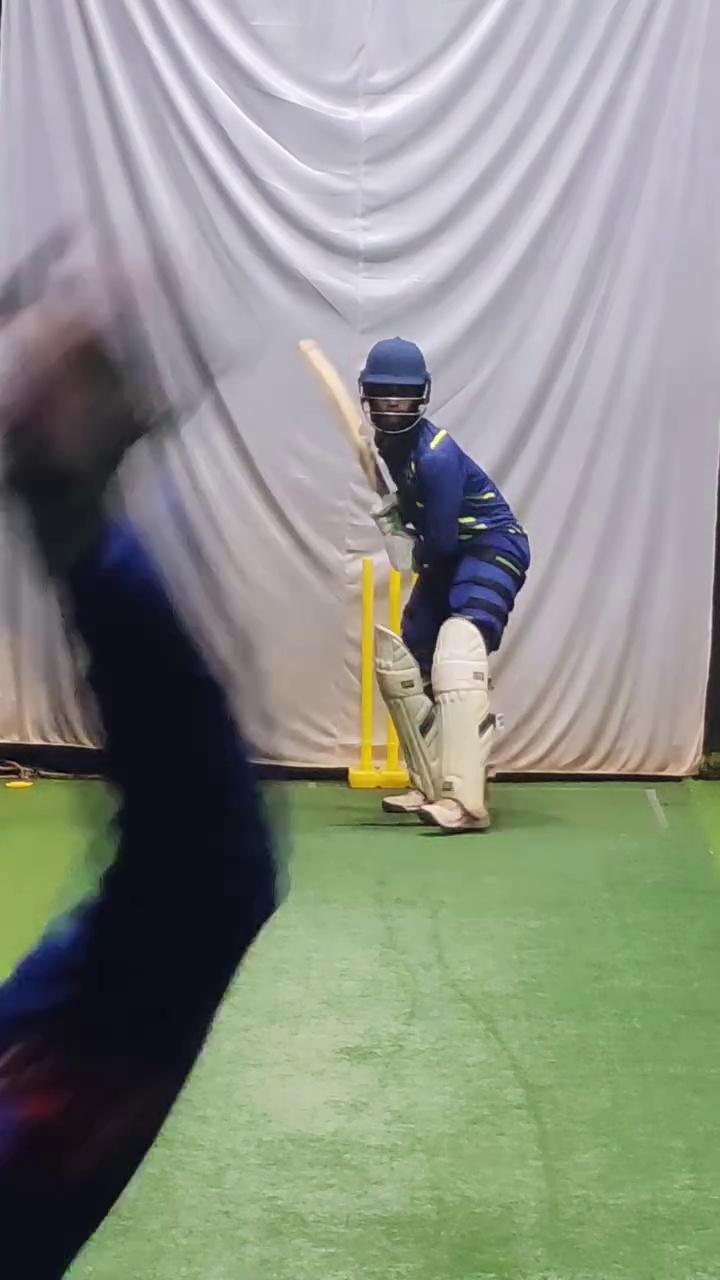bat: (293, 329, 390, 504)
